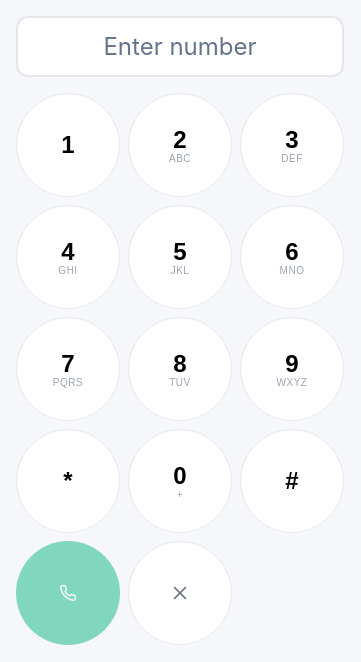
Test: Dialpad.vue › Digit Input › should add digit to number when digit button clicked
Click the button with test id "dtmf-1": coordinates (68, 145) top-left (16, 93), bottom-right (120, 197)
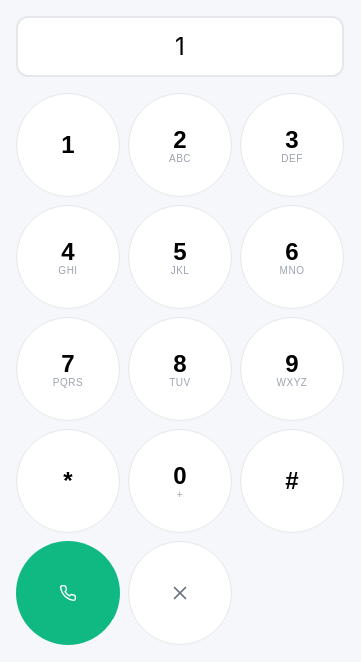
Expected: the field with test id "dialpad-input" holds "1", top-left (16, 16), bottom-right (344, 77)
